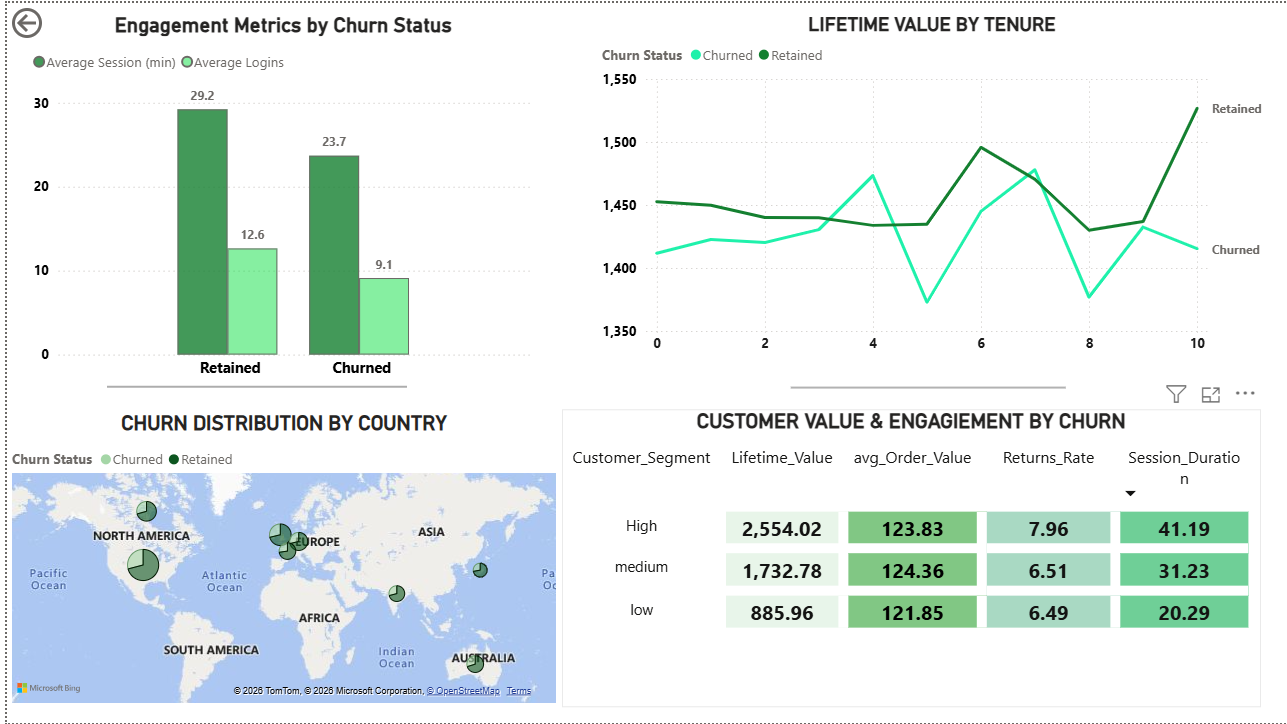

The page's visual inventory and layout, read from the dashboard file:
{"tool":"powerbi","page":{"name":"customer lifetime value analysis","canvas":[1280,720],"ordinal":1},"visuals":[{"type":"clusteredColumnChart","title":"Engagement Metrics by Churn Status","fields":{"Category":["ecommerce_customer_churn_datase.Churn Status"],"Y":["Avg(ecommerce_customer_churn_datase.Session_Duration_Avg)","Avg(ecommerce_customer_churn_datase.Login_Frequency)"]},"box":[21.4,10,510,375.7],"z":0},{"type":"actionButton","box":[0,0,100,40],"z":1000},{"type":"lineChart","title":"LIFETIME VALUE BY TENURE","fields":{"Category":["ecommerce_customer_churn_datase.Membership_Years (bins)"],"Y":["Avg(ecommerce_customer_churn_datase.Lifetime_Value)"],"Series":["ecommerce_customer_churn_datase.Churn Status"]},"box":[590,10,670,350],"z":2000},{"type":"pivotTable","title":"CUSTOMER VALUE & ENGAGIEMENT BY CHURN","fields":{"Rows":["ecommerce_customer_churn_datase.Customer_Segment"],"Values":["Avg(ecommerce_customer_churn_datase.Lifetime_Value)","Avg(ecommerce_customer_churn_datase.Average_Order_Value)","Avg(ecommerce_customer_churn_datase.Returns_Rate)","Avg(ecommerce_customer_churn_datase.Session_Duration_Avg)"]},"box":[555,406.7,698.3,298.3],"z":3000},{"type":"map","title":"CHURN DISTRIBUTION BY COUNTRY","fields":{"Size":["ecommerce_customer_churn_datase.Total Customers"],"Category":["ecommerce_customer_churn_datase.Country"],"Series":["ecommerce_customer_churn_datase.Churn Status"]},"box":[0,407.1,554.3,297.1],"z":4000},{"type":"shape","box":[783.3,378.3,275,11.7],"z":5000},{"type":"shape","box":[100,376.7,300,15],"z":6000}]}

Visuals, with their boxes in screenshot pixels (x1, y1, x2, y2), scaled from the page's 1280x720 canvas onto the 1287x724 screenshot:
"Engagement Metrics by Churn Status" clusteredColumnChart: x1=22, y1=10, x2=534, y2=388
actionButton: x1=0, y1=0, x2=101, y2=40
"LIFETIME VALUE BY TENURE" lineChart: x1=593, y1=10, x2=1267, y2=362
"CUSTOMER VALUE & ENGAGIEMENT BY CHURN" pivotTable: x1=558, y1=409, x2=1260, y2=709
"CHURN DISTRIBUTION BY COUNTRY" map: x1=0, y1=409, x2=557, y2=708
shape: x1=788, y1=380, x2=1064, y2=392
shape: x1=101, y1=379, x2=402, y2=394
